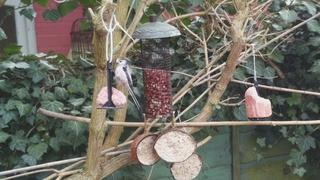long tailed tit: (112, 58, 143, 114)
